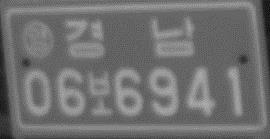0: (23, 68, 52, 118)
1: (224, 66, 247, 117)
4: (185, 66, 217, 119)
6: (113, 68, 145, 117), (56, 66, 86, 118)
9: (148, 66, 180, 117)
경남_D: (65, 14, 198, 61)
보: (86, 68, 115, 116)
영: (21, 18, 56, 59)
